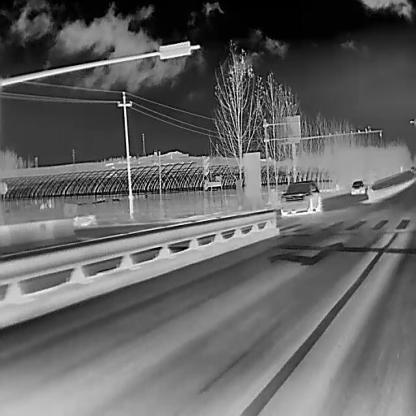car: (280, 180, 322, 216), (350, 180, 364, 194), (410, 165, 414, 171)
